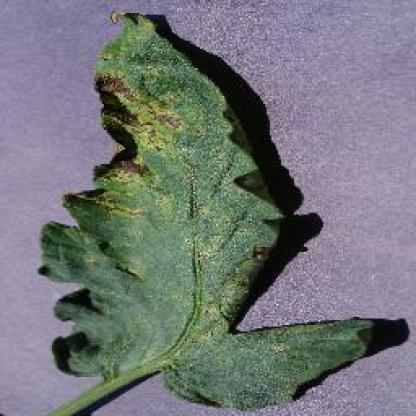bad leaf: (68, 25, 239, 411), (18, 289, 408, 415), (41, 120, 325, 284), (62, 0, 250, 138)
